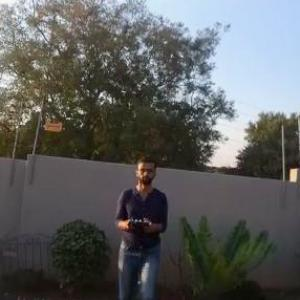follow: (109, 148, 171, 299)
